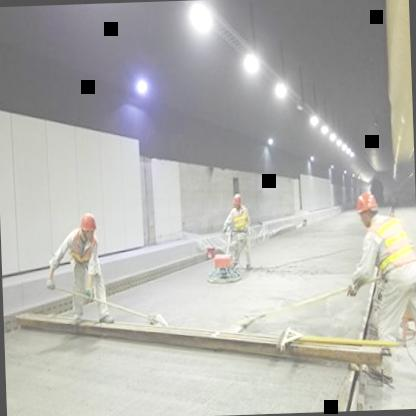helmet: (354, 190, 382, 232), (77, 210, 99, 244), (232, 188, 244, 214)
